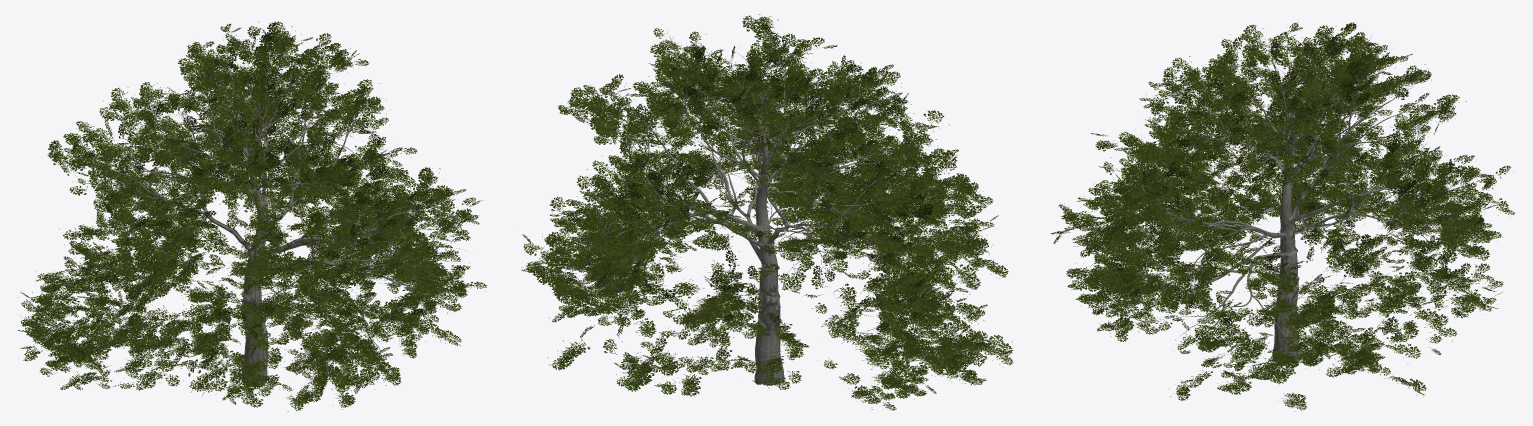
The model's file is tree-game-mobile.glb.
3 views of the same model, side by side, from view 1: azimuth 30°, elevation 25°; view 2: azimuth 150°, elevation 25°; view 3: azimuth 270°, elevation 25° (orthographic). The views are drawn at different scales.
Parts seen in each view (by area): view 1: Game_Hero_Source; view 2: Game_Hero_Source; view 3: Game_Hero_Source.
Part boxes in pixels (x1,y1,x2,y2): Game_Hero_Source: [18, 21, 486, 411]; Game_Hero_Source: [521, 14, 1013, 410]; Game_Hero_Source: [1051, 22, 1514, 411].
Size of the model in its own units: 55.17 by 42.87 by 53.45.
2 materials, 2 textured.
